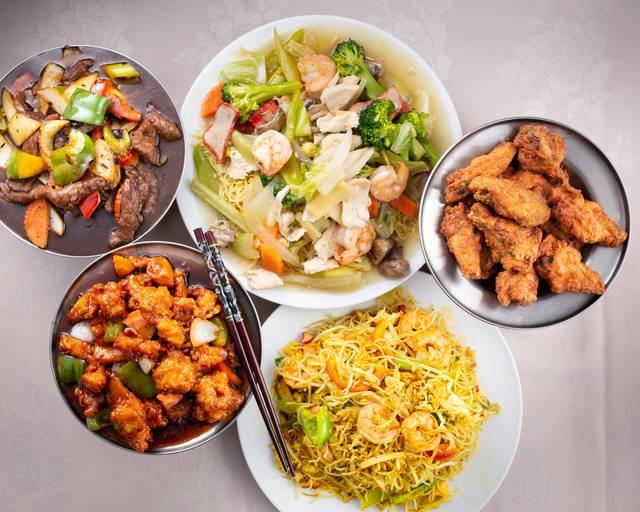Braised Crucian Carp: (175, 15, 458, 307), (234, 281, 522, 510), (47, 242, 255, 455), (418, 118, 626, 329), (1, 45, 184, 255)
